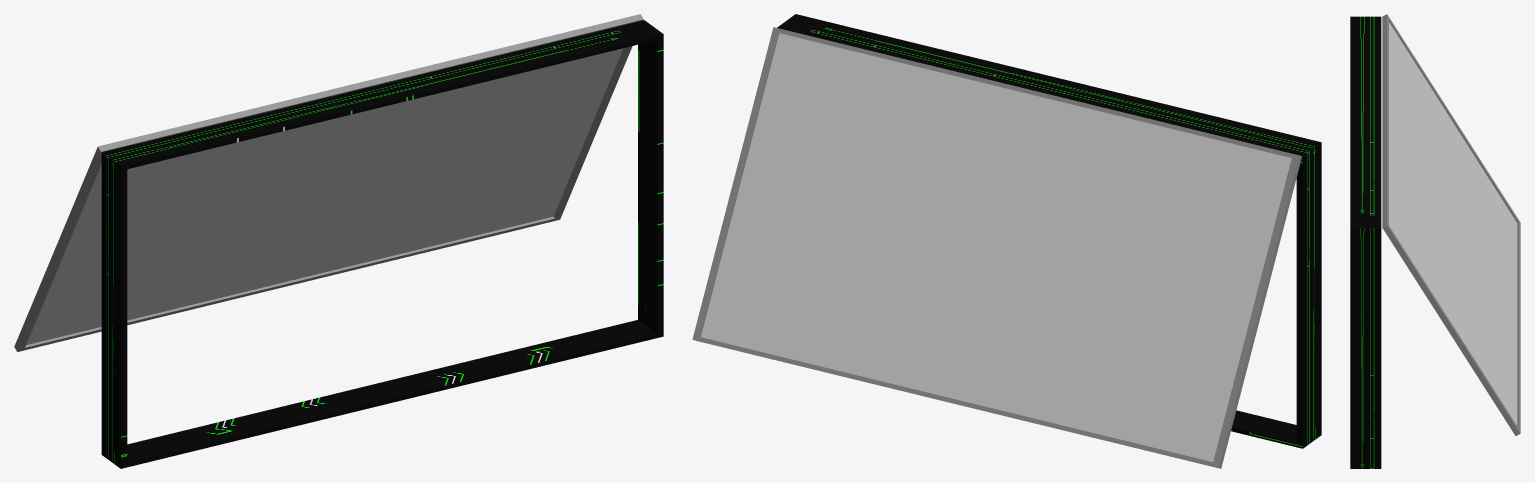
File: jendela.FBX
3 views of the same model, side by side, from view 1: azimuth 30°, elevation 25°; view 2: azimuth 150°, elevation 25°; view 3: azimuth 270°, elevation 25° (orthographic). The views are drawn at different scales.
Visible parts, largest first — view 1: Box033, jendela dalam, jendela luar; view 2: Box033, jendela dalam, jendela luar; view 3: Box033, jendela dalam, jendela luar.
Boxes of the visible parts, x1=… form: Box033: x1=26, y1=48, x2=623, y2=345; jendela dalam: x1=101, y1=20, x2=663, y2=468; jendela luar: x1=14, y1=14, x2=643, y2=351; Box033: x1=701, y1=33, x2=1291, y2=461; jendela dalam: x1=777, y1=14, x2=1321, y2=448; jendela luar: x1=692, y1=27, x2=1301, y2=468; Box033: x1=1389, y1=22, x2=1517, y2=425; jendela dalam: x1=1350, y1=16, x2=1381, y2=468; jendela luar: x1=1382, y1=14, x2=1520, y2=435.
Size of the model in its own units: 67.6 by 36.38 by 23.01.
